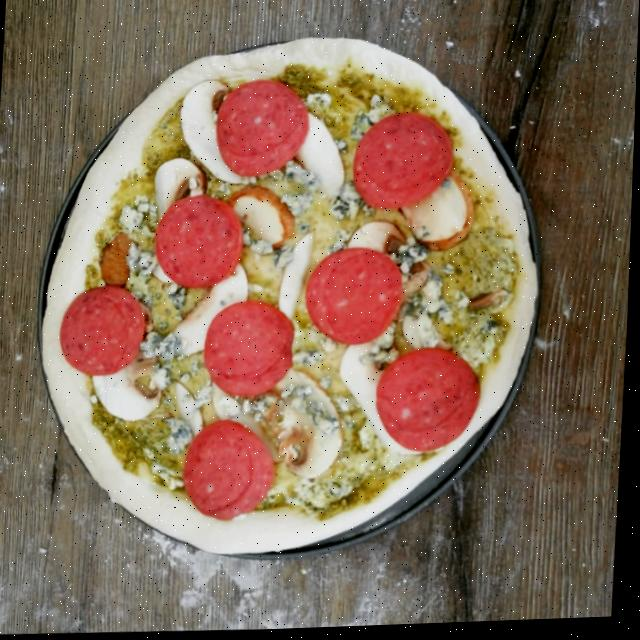mushrooms: (339, 325, 427, 455), (265, 368, 350, 488), (171, 76, 261, 188), (174, 264, 251, 356), (399, 166, 474, 255), (91, 340, 168, 425), (226, 186, 293, 247), (151, 159, 209, 225), (343, 225, 408, 252)
pepperoni: (372, 344, 490, 458), (347, 108, 458, 214), (302, 246, 409, 349), (181, 416, 281, 525), (215, 75, 315, 180), (201, 296, 301, 401), (153, 191, 248, 291), (58, 282, 151, 378)
pizza: (35, 27, 551, 565)
